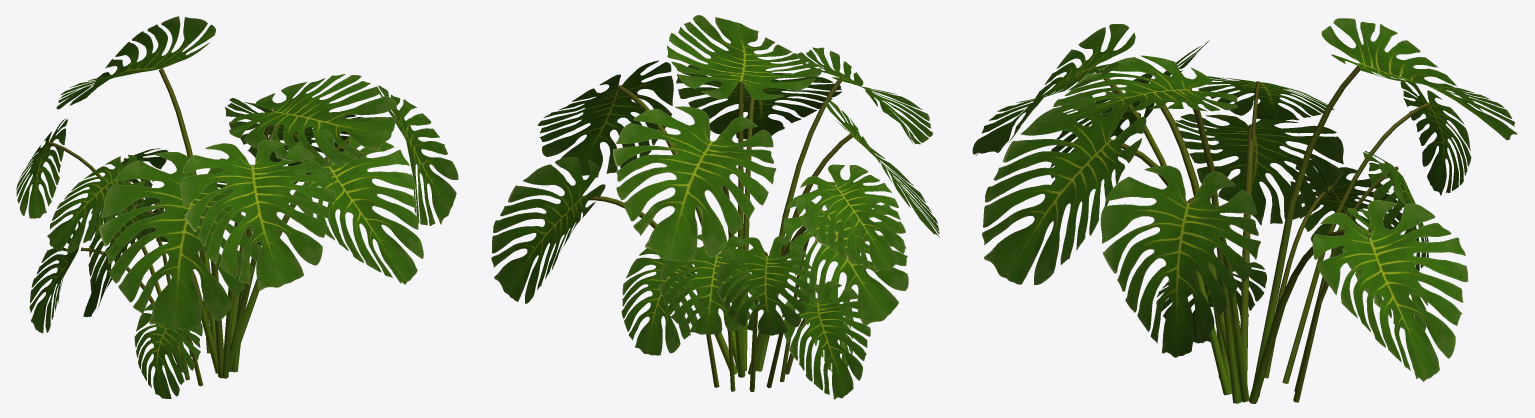
The model's file is SM_VegetationA.fbx.
The picture shows the model from 3 angles, left to right: view 1: azimuth 30°, elevation 25°; view 2: azimuth 150°, elevation 25°; view 3: azimuth 270°, elevation 25°; orthographic projection. The views are drawn at different scales.
Visible parts, largest first — view 1: SM_VegetationA_LOD0; view 2: SM_VegetationA_LOD0; view 3: SM_VegetationA_LOD0.
Boxes of the visible parts, box(x1,y1,x2,y2) form: SM_VegetationA_LOD0: box(16, 16, 458, 398); SM_VegetationA_LOD0: box(491, 15, 939, 399); SM_VegetationA_LOD0: box(972, 18, 1517, 403).
Size of the model in its own units: 88.21 by 91.13 by 65.03.
1 material, 1 textured.
